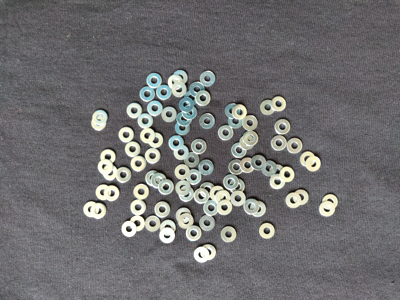circle: (259, 222, 277, 241), (99, 148, 117, 166), (90, 203, 108, 221), (200, 69, 217, 88), (243, 198, 260, 216), (260, 99, 277, 117), (221, 225, 238, 243), (193, 247, 210, 265), (95, 184, 113, 201), (273, 118, 292, 134), (251, 201, 267, 220), (200, 214, 216, 233), (84, 201, 100, 220), (321, 194, 338, 211), (293, 189, 310, 206), (287, 137, 304, 154), (271, 135, 288, 152), (269, 164, 286, 181), (230, 190, 247, 207), (200, 244, 217, 261), (175, 207, 192, 224), (154, 201, 171, 218), (158, 179, 175, 196), (101, 165, 118, 182), (224, 174, 240, 192), (169, 134, 185, 152), (173, 163, 189, 181), (186, 225, 202, 243), (270, 174, 287, 190), (226, 101, 242, 118), (217, 200, 233, 217), (216, 189, 232, 206), (195, 91, 212, 107), (146, 73, 163, 89), (147, 100, 163, 117), (126, 102, 143, 118), (140, 127, 156, 144), (148, 131, 164, 148), (198, 160, 215, 176), (174, 145, 190, 162), (186, 169, 202, 186), (179, 187, 195, 204), (193, 188, 210, 204), (200, 182, 216, 199), (159, 220, 176, 236), (159, 229, 176, 245), (145, 216, 161, 233), (133, 184, 150, 200), (146, 170, 162, 187), (130, 156, 147, 172), (125, 142, 143, 157), (105, 184, 120, 202), (271, 96, 287, 112), (232, 104, 248, 120), (218, 125, 234, 141), (200, 114, 216, 130), (182, 105, 198, 121), (171, 82, 187, 98), (140, 86, 156, 102), (161, 107, 177, 123), (138, 113, 154, 129), (185, 152, 201, 168), (176, 180, 192, 196), (130, 215, 146, 231), (130, 200, 146, 216), (151, 173, 167, 189), (92, 109, 108, 125), (320, 201, 337, 216), (230, 179, 247, 194), (228, 114, 245, 129), (189, 82, 206, 97), (176, 111, 193, 126), (167, 75, 184, 90), (192, 138, 207, 155), (203, 201, 220, 216), (179, 213, 194, 230), (286, 193, 302, 208), (280, 166, 295, 182), (262, 161, 278, 176), (252, 155, 267, 171), (242, 116, 258, 131), (243, 131, 259, 146), (240, 135, 255, 151), (185, 90, 200, 106), (157, 85, 172, 101), (121, 222, 137, 237), (119, 127, 134, 143), (145, 149, 161, 164), (178, 98, 195, 112), (172, 70, 189, 84), (306, 156, 321, 171), (229, 160, 244, 175), (210, 186, 225, 201), (116, 168, 131, 183), (98, 160, 113, 175), (300, 152, 316, 166), (232, 142, 246, 158), (175, 122, 191, 136), (91, 117, 107, 131), (241, 158, 254, 173)
